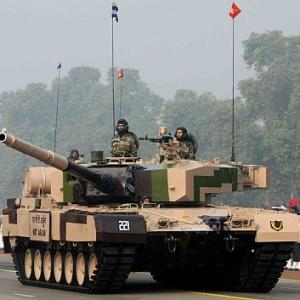Battle Tank: (5, 149, 300, 289)
